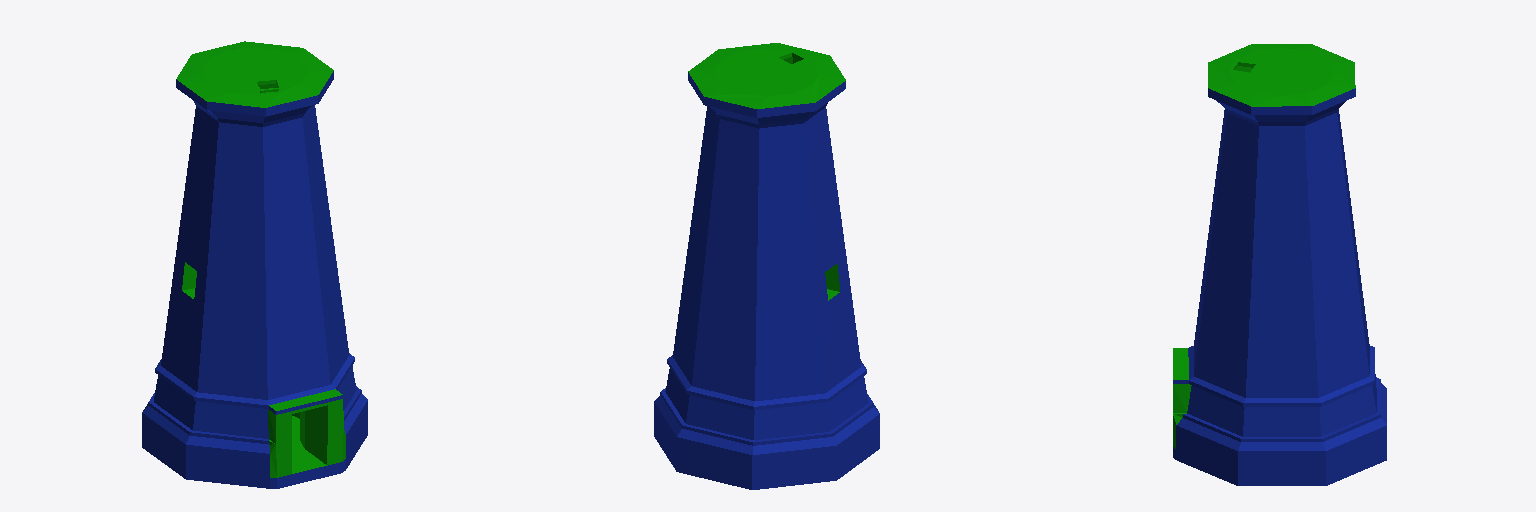
3 views of the same model, side by side, from view 1: azimuth 30°, elevation 25°; view 2: azimuth 150°, elevation 25°; view 3: azimuth 270°, elevation 25° (orthographic).
Visible parts, largest first — view 1: main_0_Circle; view 2: main_0_Circle; view 3: main_0_Circle.
Boxes of the visible parts, box(x1,y1,x2,y2) form: main_0_Circle: box(142, 41, 367, 488); main_0_Circle: box(654, 43, 879, 489); main_0_Circle: box(1173, 44, 1386, 485).
Size of the model in its own units: 8.57 by 16.67 by 8.72.